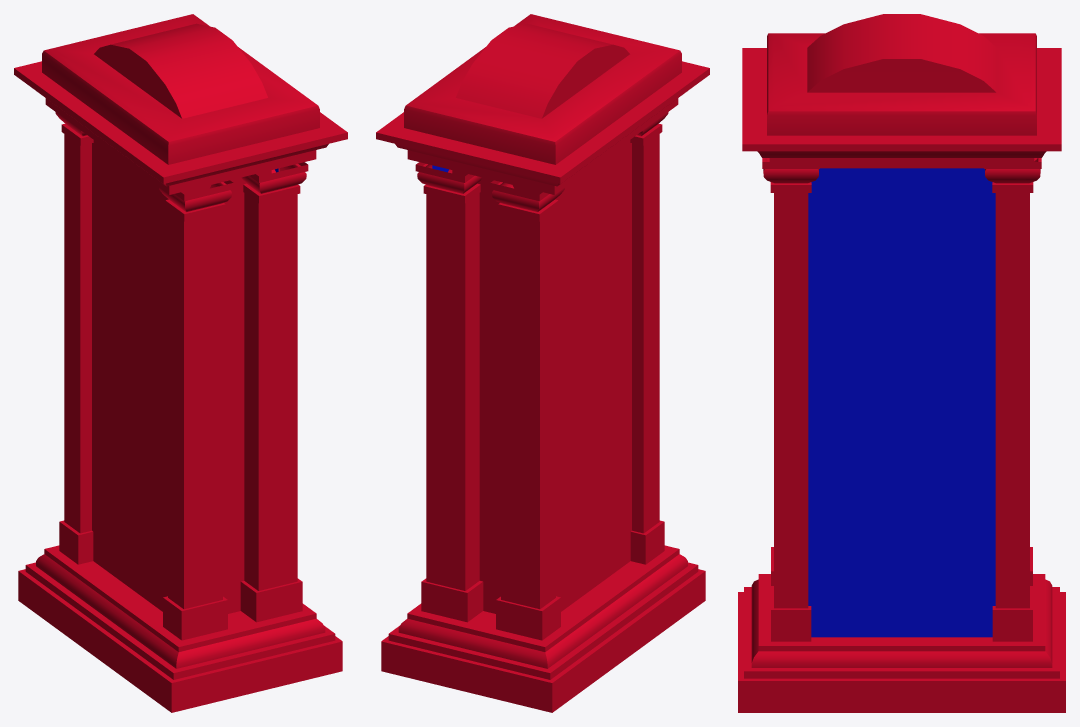
File: SM_Clock.fbx
3 views of the same model, side by side, from view 1: azimuth 30°, elevation 25°; view 2: azimuth 150°, elevation 25°; view 3: azimuth 270°, elevation 25° (orthographic). The views are drawn at different scales.
Visible parts, largest first — view 1: SM_Clock; view 2: SM_Clock; view 3: SM_Clock.
Boxes of the visible parts, x1=… form: SM_Clock: x1=14, y1=14, x2=347, y2=712; SM_Clock: x1=376, y1=14, x2=709, y2=712; SM_Clock: x1=738, y1=14, x2=1065, y2=712.
Bounding box in the file's own units: 27.66 × 84.74 × 39.84.
